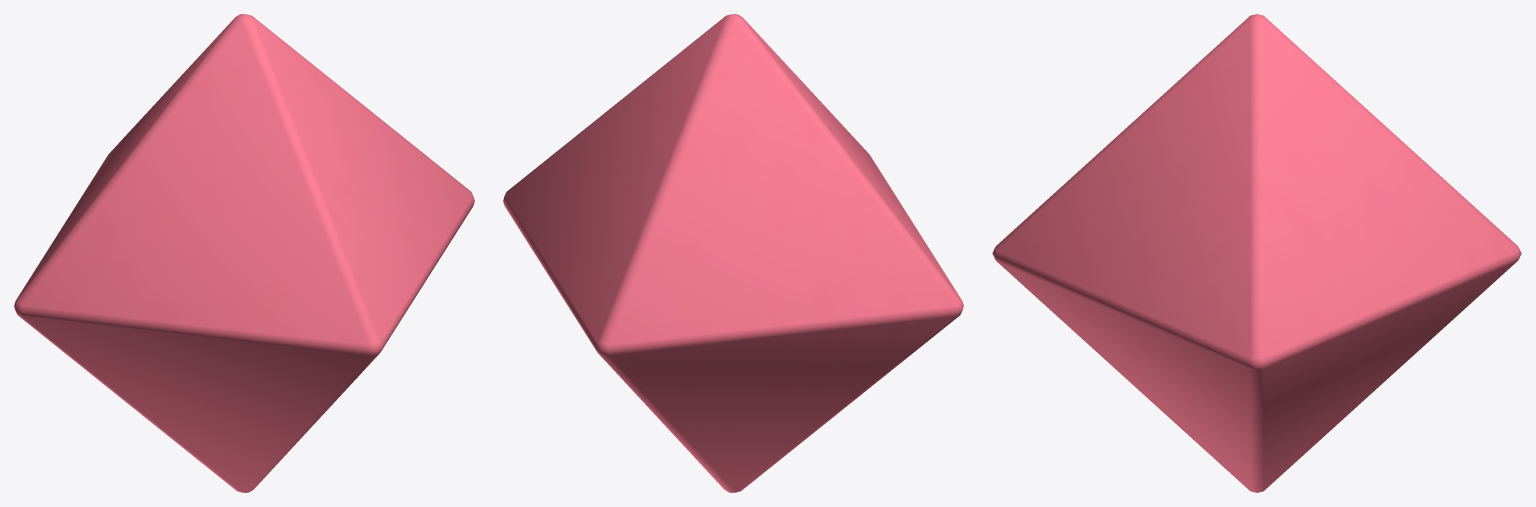
Rendered from DiamondSmall_2.fbx.
The picture shows the model from 3 angles, left to right: view 1: azimuth 30°, elevation 25°; view 2: azimuth 150°, elevation 25°; view 3: azimuth 270°, elevation 25°; orthographic projection.
Visible parts, largest first — view 1: Sphere.002; view 2: Sphere.002; view 3: Sphere.002.
Boxes of the visible parts, <box> form: Sphere.002: <box>14,14,474,492</box>; Sphere.002: <box>503,14,963,492</box>; Sphere.002: <box>992,14,1521,492</box>.
Size of the model in its own units: 194 by 194 by 194.
